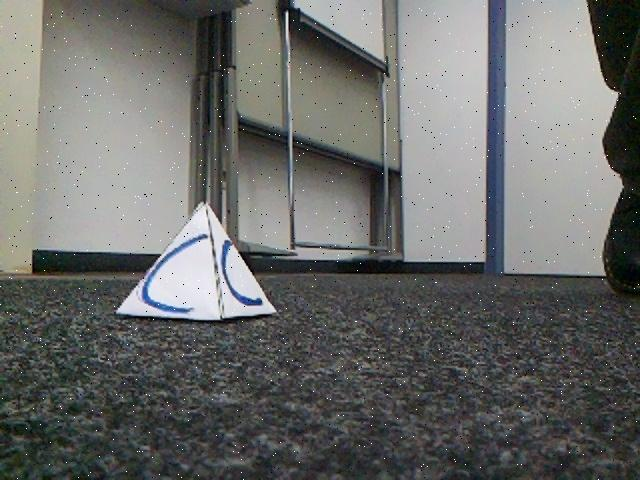C: (115, 207, 276, 320)
